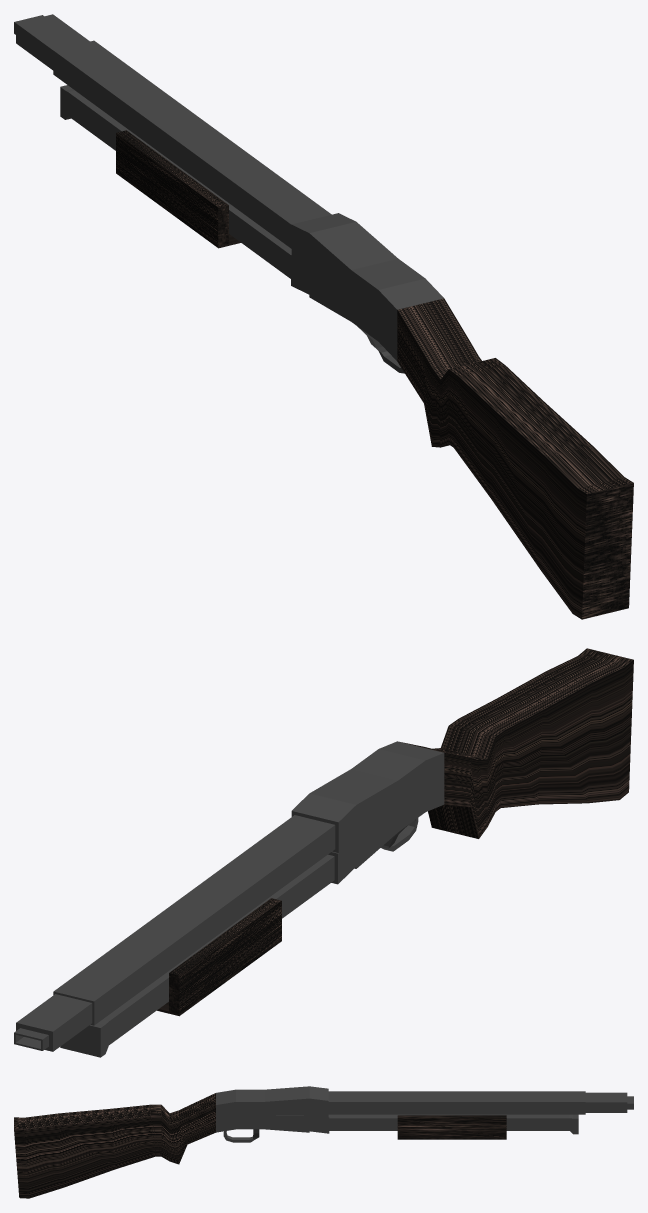
File: model12_shotgun.glb
3 renders of one model, top to bottom at view 1: azimuth 30°, elevation 25°; view 2: azimuth 150°, elevation 25°; view 3: azimuth 270°, elevation 25°, orthographic. The views are drawn at different scales.
Visible parts, largest first — view 1: GunBody, Pump; view 2: GunBody, Pump; view 3: GunBody, Pump, EjectionFlap.
Boxes of the visible parts, x1,y1,x2,y2 form: GunBody: [14, 14, 633, 619]; Pump: [116, 130, 240, 248]; GunBody: [14, 648, 633, 1057]; Pump: [157, 898, 281, 1016]; GunBody: [14, 1086, 633, 1198]; Pump: [397, 1115, 506, 1139]; EjectionFlap: [276, 1103, 303, 1115].
Bounding box in the file's own units: 0.3015 × 0.8749 × 4.91.
Materials: 2 (1 with a texture image).
